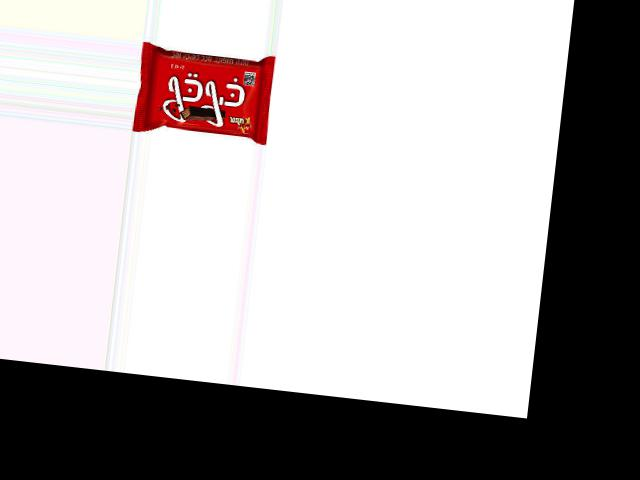chocolate: (133, 40, 275, 145)
